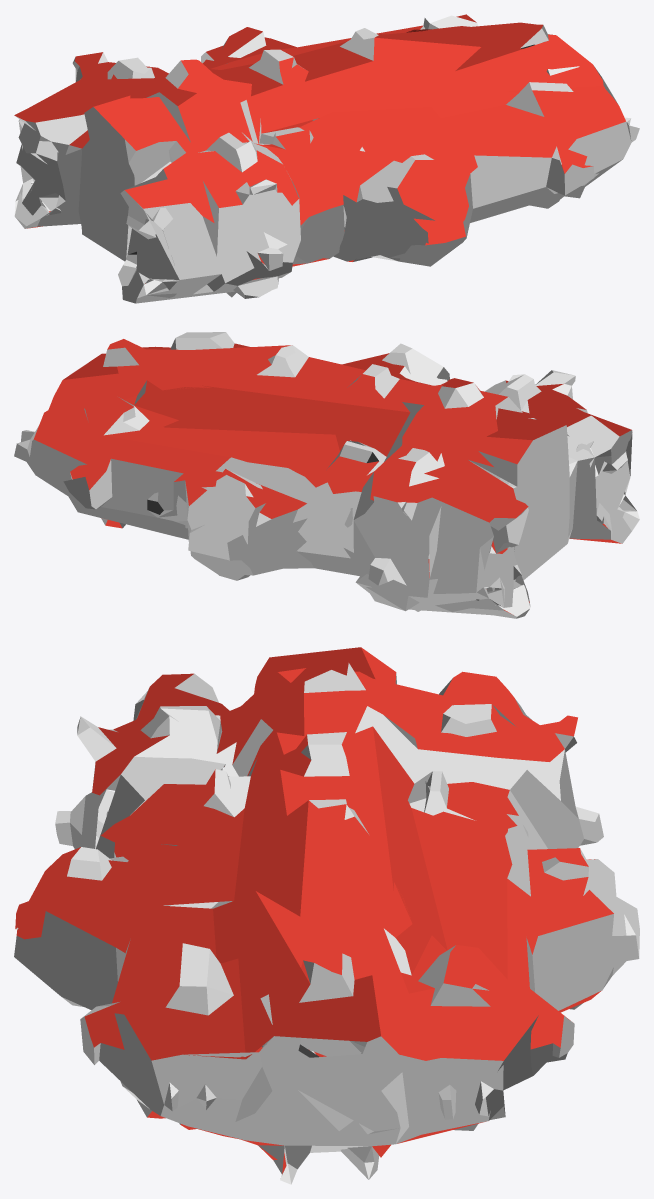
The model's file is SetReachBastionT2.glb.
3 views of the same model, one above another, from view 1: azimuth 30°, elevation 25°; view 2: azimuth 150°, elevation 25°; view 3: azimuth 270°, elevation 25° (orthographic). The views are drawn at different scales.
Visible parts, largest first — view 1: Spaceship; view 2: Spaceship; view 3: Spaceship.
Boxes of the visible parts, x1,y1,x2,y2 form: Spaceship: [14, 14, 639, 303]; Spaceship: [14, 332, 639, 618]; Spaceship: [14, 647, 639, 1184].
Bounding box in the file's own units: 0.9521 × 0.3488 × 0.7063.
